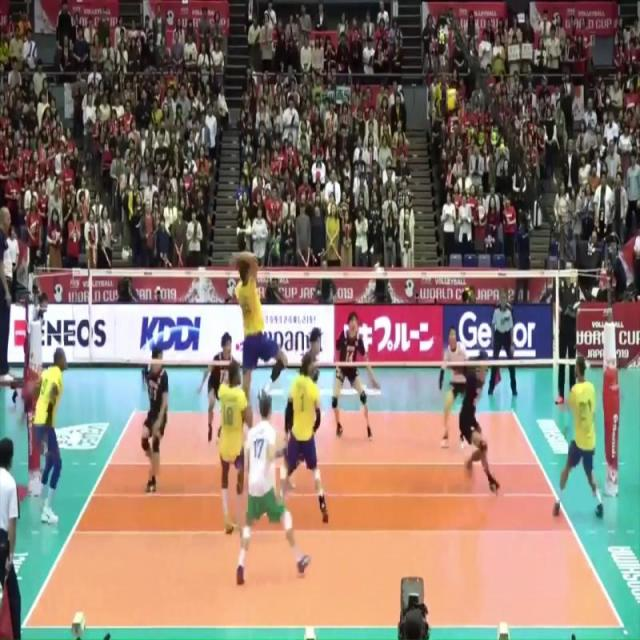volleyball: (443, 82, 462, 115)
